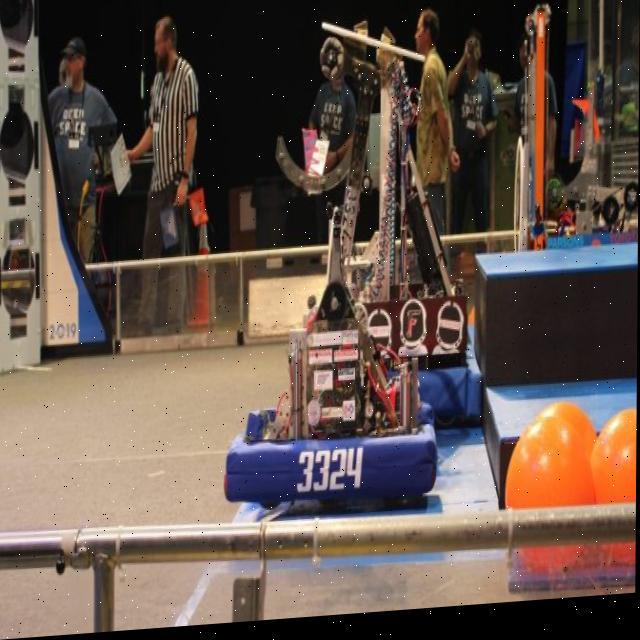robot: (227, 26, 440, 518), (325, 15, 485, 447)
